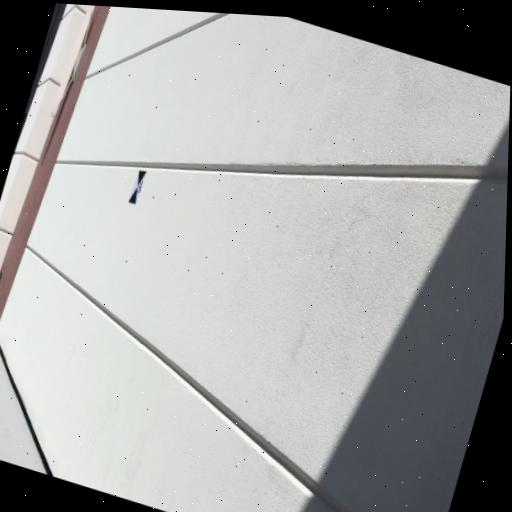target4: (128, 170, 147, 206)
